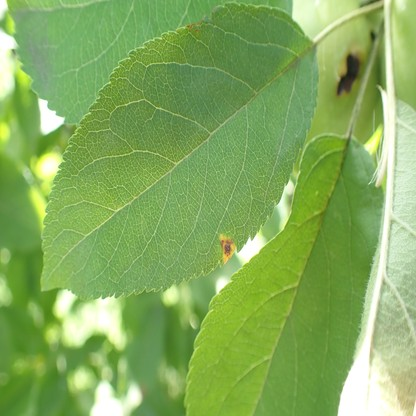rust: (219, 231, 236, 262)
